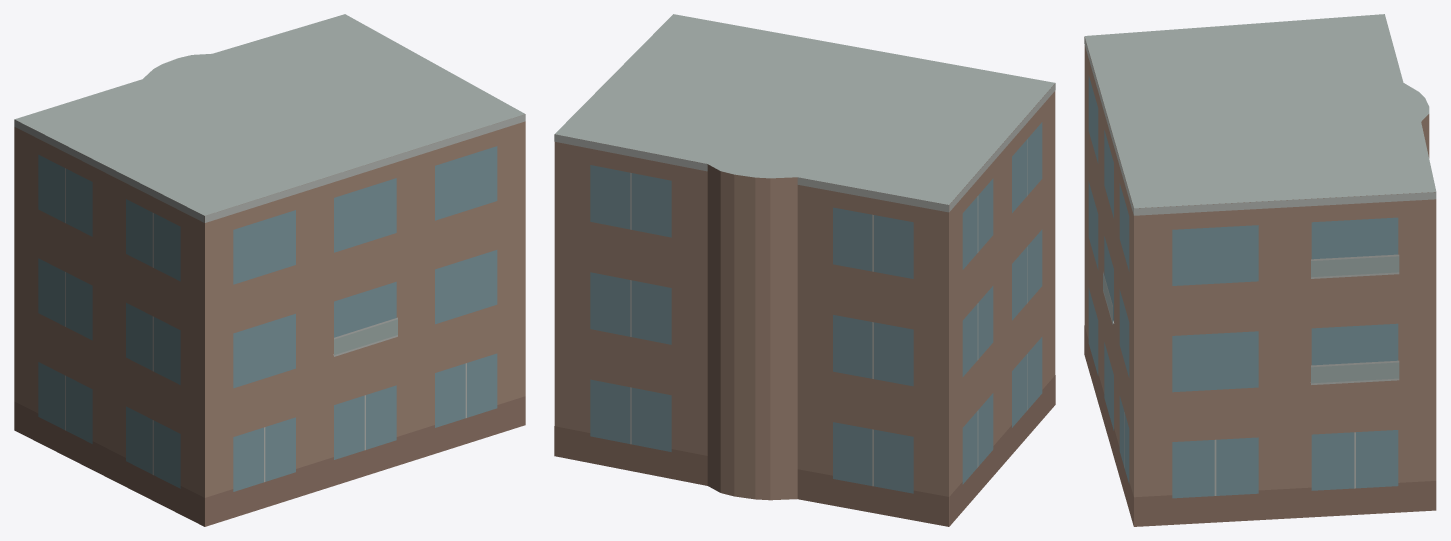
The model's file is survey-upis-32734511.glb.
3 views of the same model, side by side, from view 1: azimuth 30°, elevation 25°; view 2: azimuth 150°, elevation 25°; view 3: azimuth 270°, elevation 25° (orthographic). The views are drawn at different scales.
Visible parts, largest first — view 1: survey-upis-32734511.tmp; view 2: survey-upis-32734511.tmp; view 3: survey-upis-32734511.tmp.
Part boxes in pixels (x1=…): survey-upis-32734511.tmp: x1=14, y1=14, x2=525, y2=526; survey-upis-32734511.tmp: x1=554, y1=14, x2=1055, y2=526; survey-upis-32734511.tmp: x1=1084, y1=14, x2=1436, y2=526.
Size of the model in its own units: 13.75 by 10.5 by 10.53.
